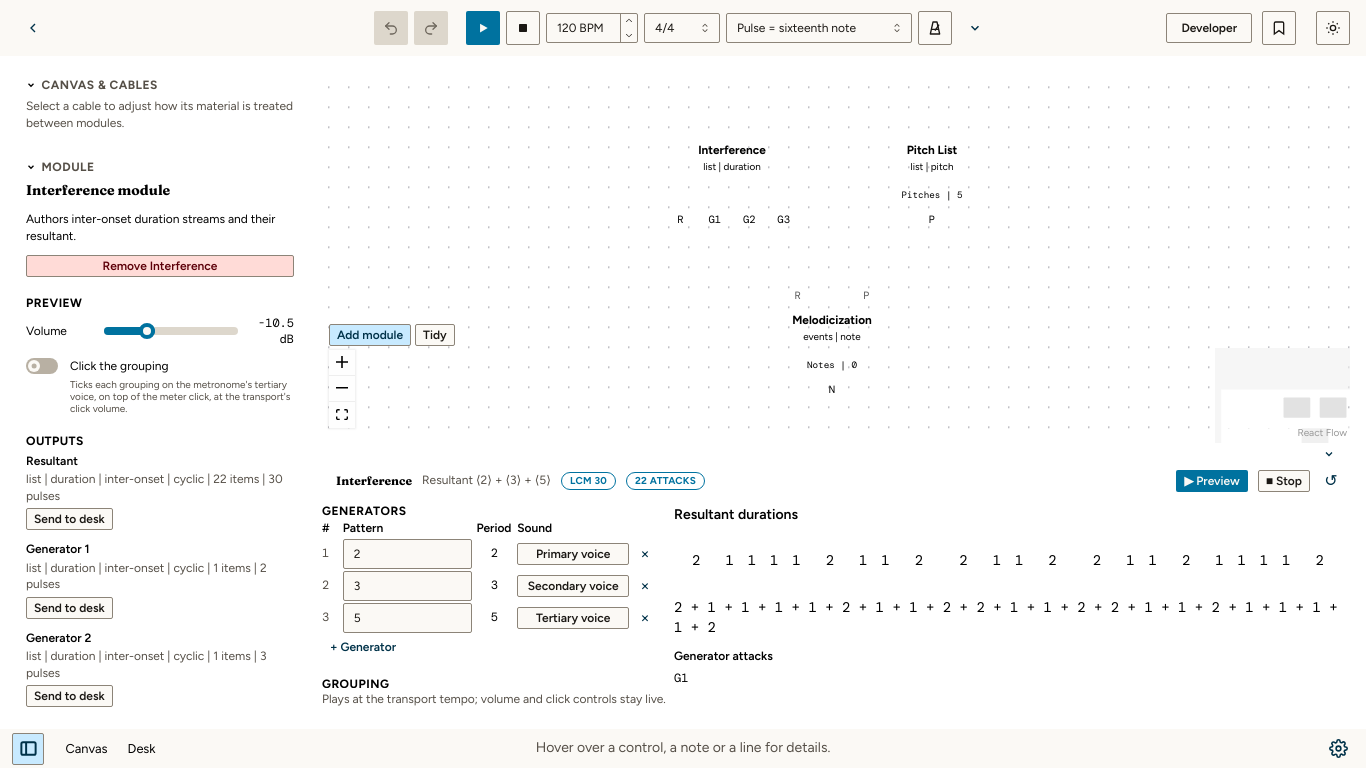
Test: the bottom panel targets a module or a clip › counts no module as active while a clip is open
Click the button "Pitch List list | pitch Pitches | 5" at (932, 172), box [858,134,1006,211]
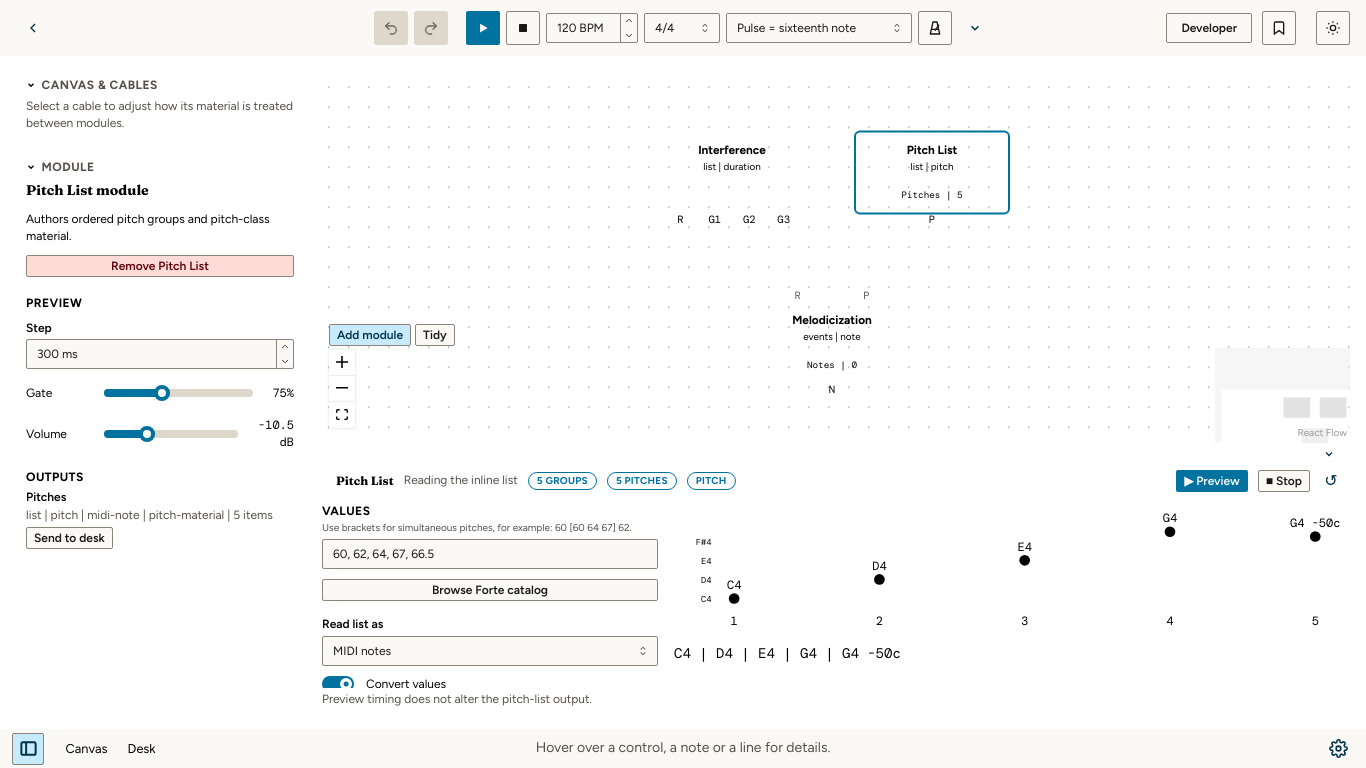
Check: the button named "Play selected module" is enabled, box [466,11,500,45]
Check: the button "Remove Pitch List" is shown, box [26,255,294,277]
Click the radio button labelled "Desk" at (142, 748), box [118,734,165,763]
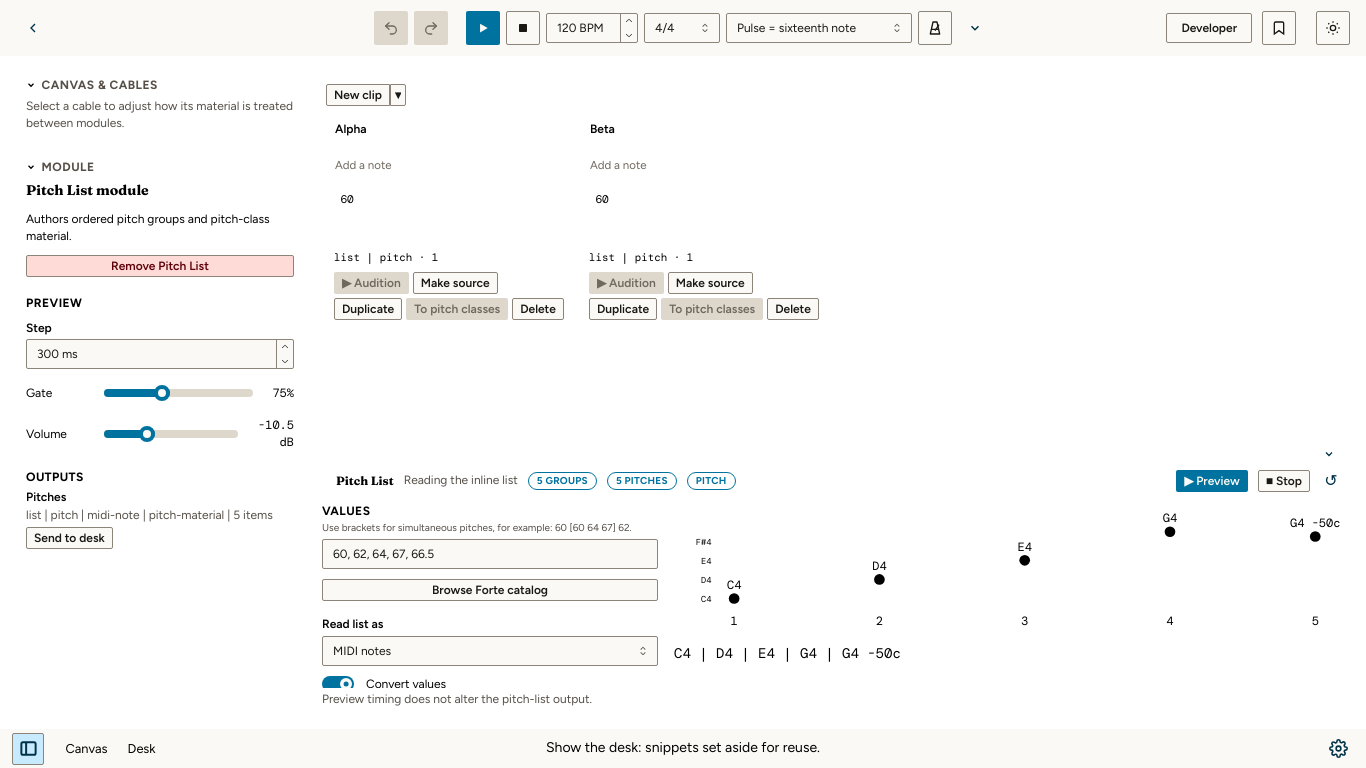
Double-click the 1st text "list | pitch · 1" at (386, 257), box [334,250,438,264]
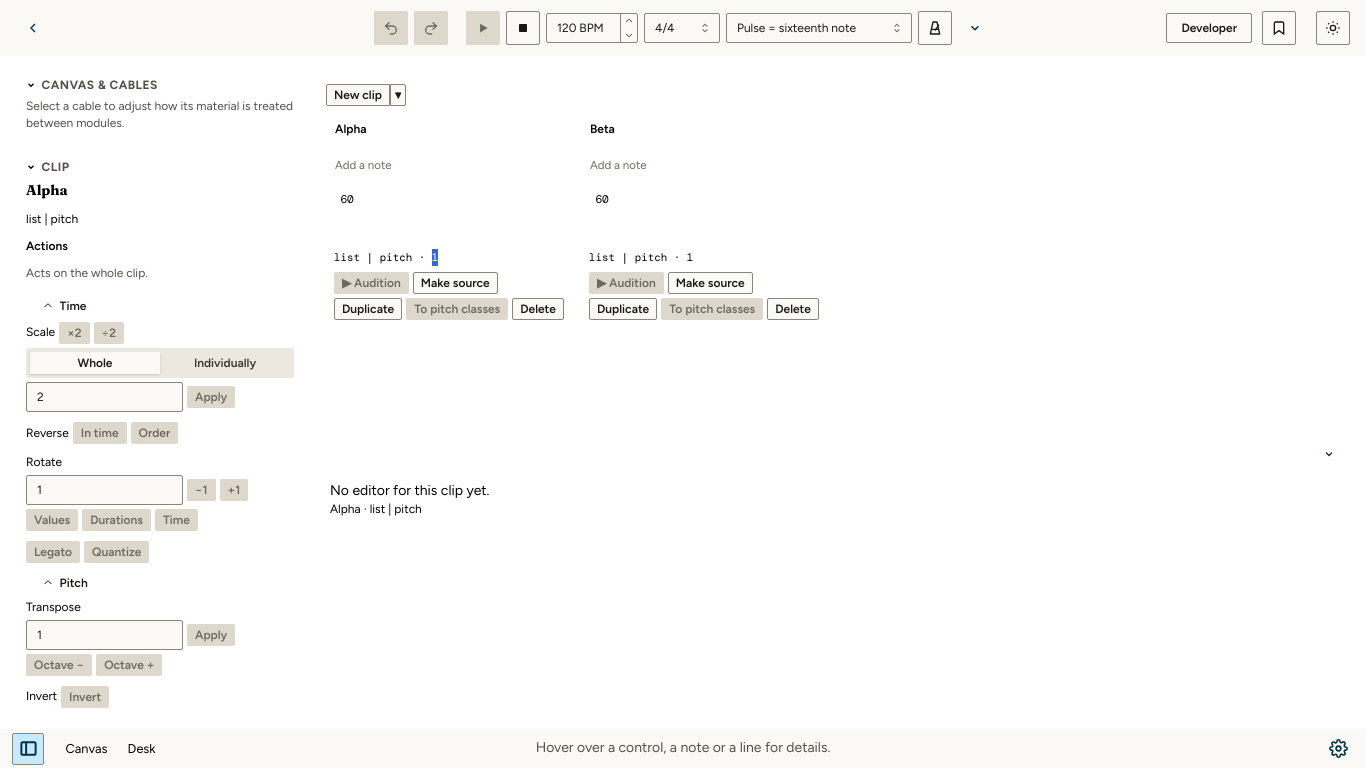
Check: the message "No editor for this clip yet. Alpha · list | pitch" is shown, box [330,482,490,516]
Check: the button named "Play selected module" is disabled, box [466,11,500,45]
Check: the button "Remove Pitch List" is gone
